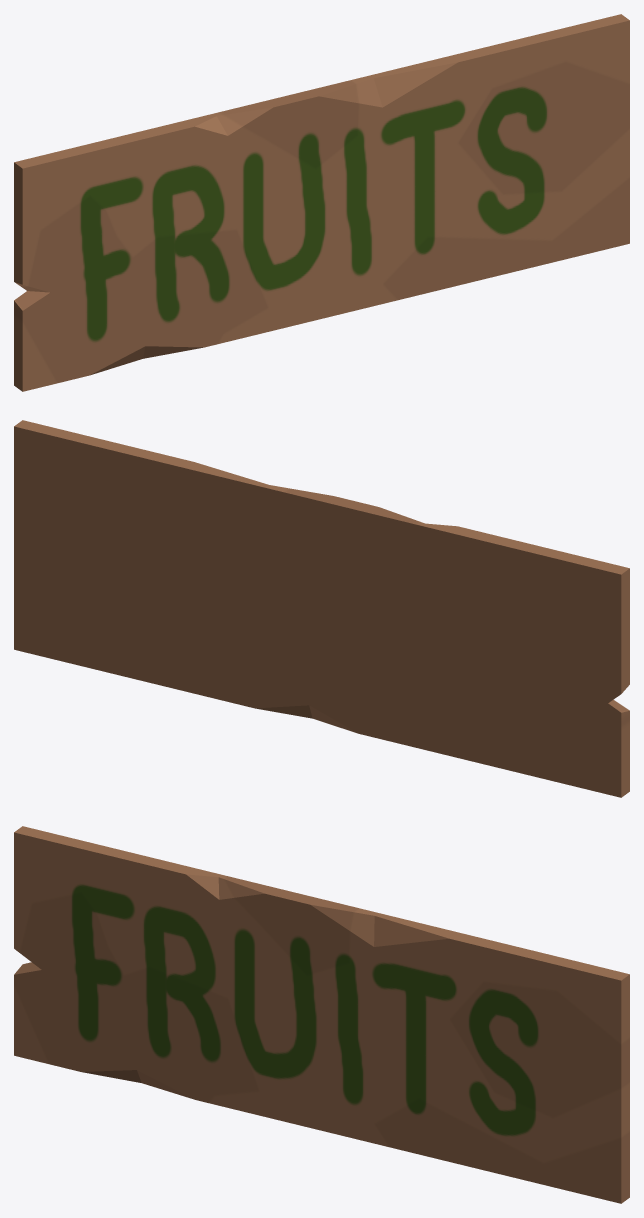
Rendered from SM_Prop_Sign_Fruit_01.fbx.
The picture shows the model from 3 angles, top to bottom: view 1: azimuth 30°, elevation 25°; view 2: azimuth 150°, elevation 25°; view 3: azimuth 330°, elevation 25°; orthographic projection.
Parts seen in each view (by area): view 1: SM_Prop_Sign_Fruit_01; view 2: SM_Prop_Sign_Fruit_01; view 3: SM_Prop_Sign_Fruit_01.
Boxes of the visible parts, <box> form: SM_Prop_Sign_Fruit_01: <box>14,14,629,391</box>; SM_Prop_Sign_Fruit_01: <box>14,420,629,797</box>; SM_Prop_Sign_Fruit_01: <box>14,826,629,1203</box>.
Bounding box in the file's own units: 97.31 × 34.18 × 2.41.
